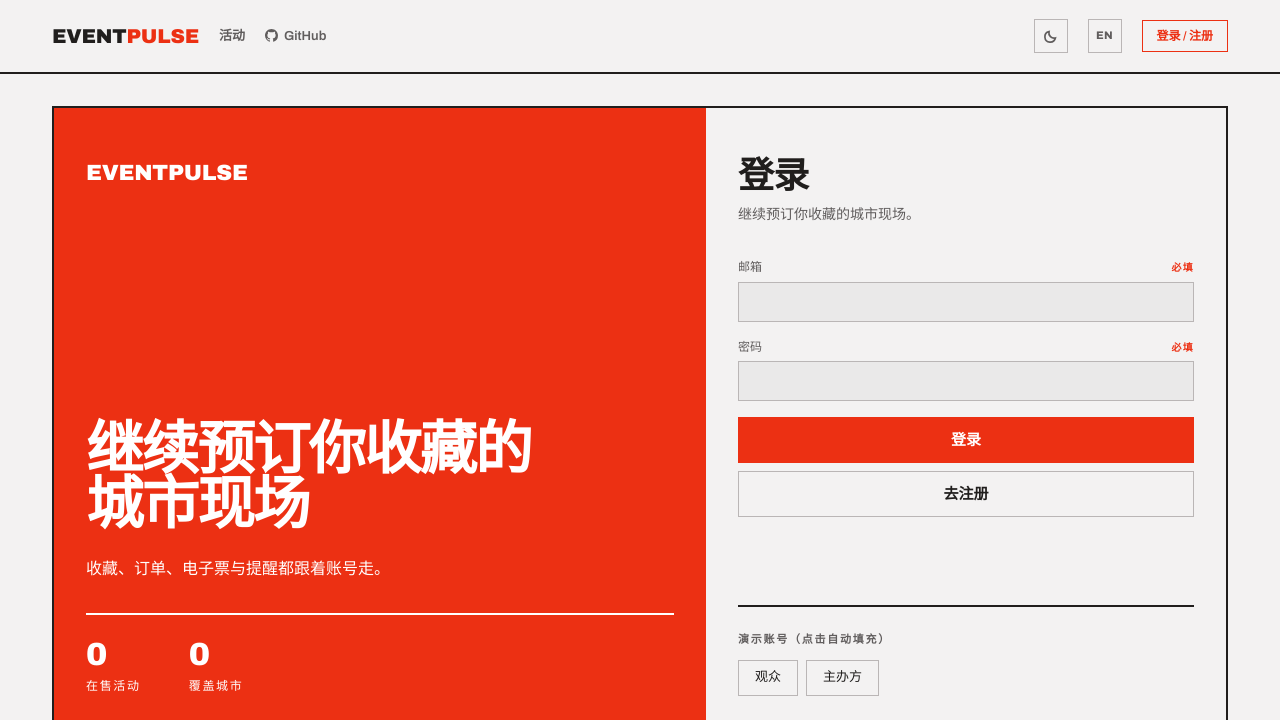
Test: LoginPage › fills the form from a demo account chip
Expected: the heading "登录" is shown, [738,156,809,196]
Click the button "主办方": click(842, 678) [806,660,879,696]
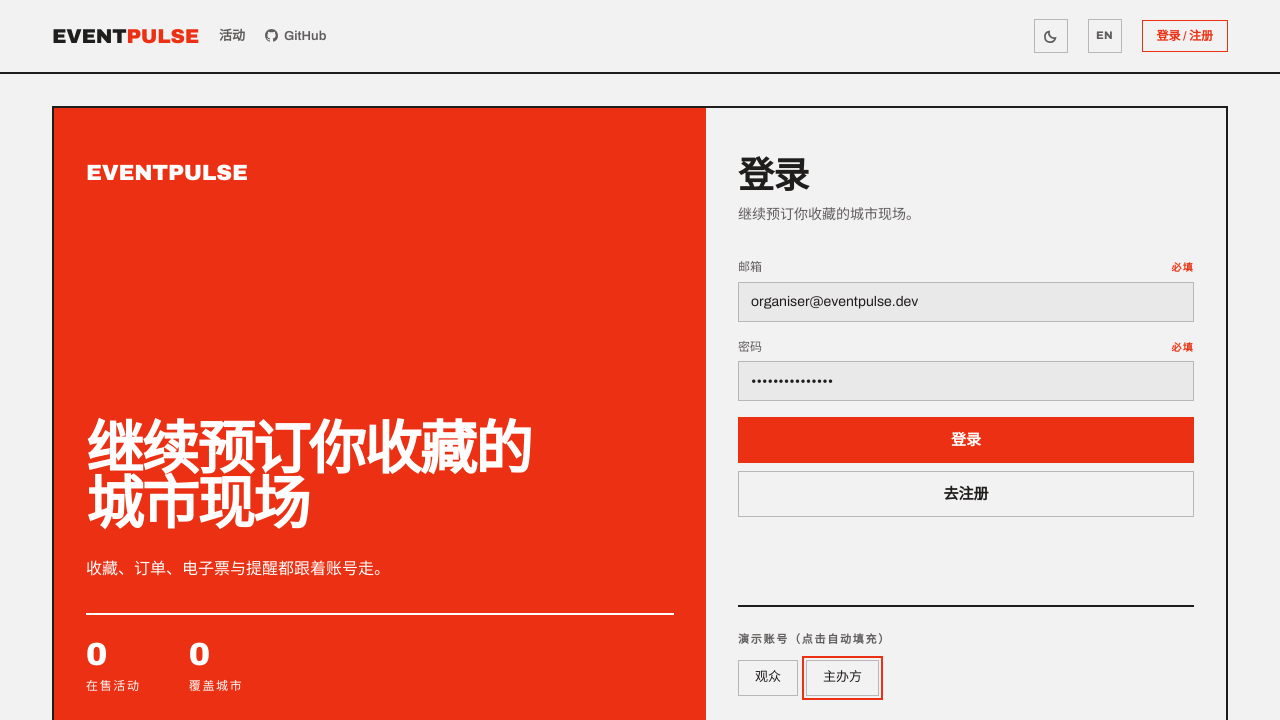
Result: the field labelled "邮箱" holds "organiser@eventpulse.dev" at [738,282,1194,322]
Result: the password field labelled "密码" holds "Organiser123456" at [738,361,1194,401]
